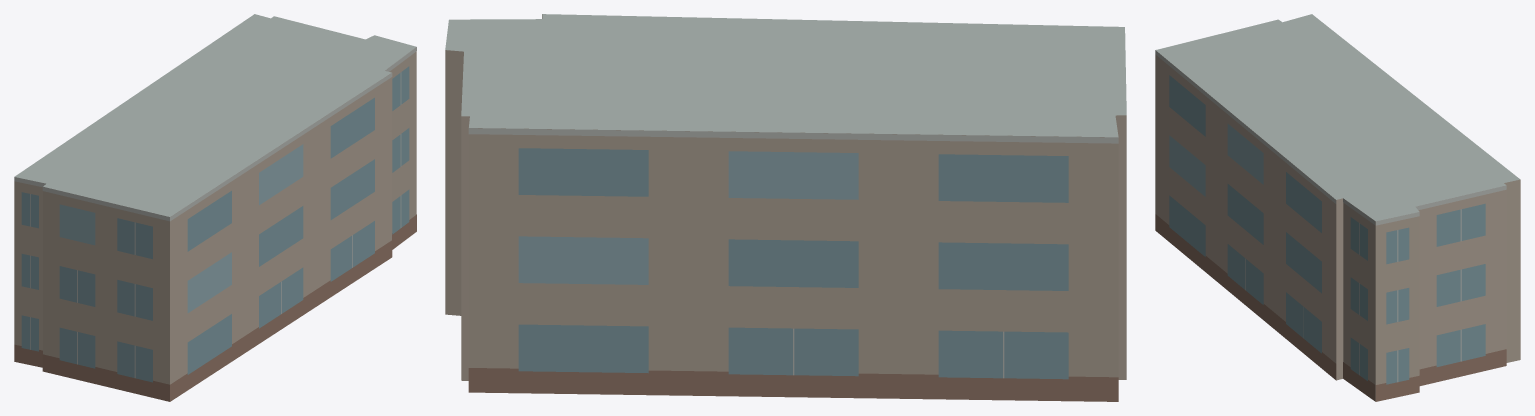
The model's file is survey-upis-32954914.glb.
3 renders of one model, left to right at view 1: azimuth 30°, elevation 25°; view 2: azimuth 150°, elevation 25°; view 3: azimuth 270°, elevation 25°, orthographic. The views are drawn at different scales.
Parts seen in each view (by area): view 1: survey-upis-32954914.tmp; view 2: survey-upis-32954914.tmp; view 3: survey-upis-32954914.tmp.
Boxes of the visible parts, box(x1,y1,x2,y2) form: survey-upis-32954914.tmp: box(14, 14, 416, 401); survey-upis-32954914.tmp: box(445, 14, 1126, 401); survey-upis-32954914.tmp: box(1155, 14, 1520, 401).
Bounding box in the file's own units: 25.39 × 10.3 × 18.89.
